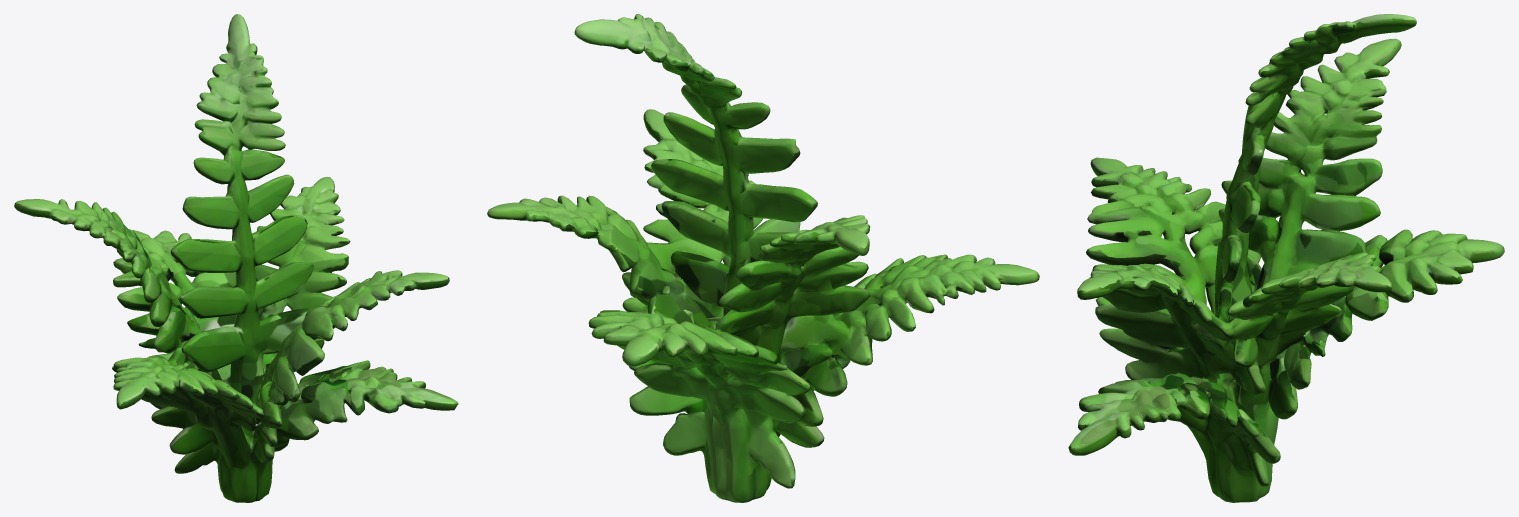
File: bush.glb
3 views of the same model, side by side, from view 1: azimuth 30°, elevation 25°; view 2: azimuth 150°, elevation 25°; view 3: azimuth 270°, elevation 25° (orthographic). The views are drawn at different scales.
Parts seen in each view (by area): view 1: Fern; view 2: Fern; view 3: Fern.
Boxes of the visible parts, box(x1,y1,x2,y2) form: Fern: box(14, 14, 458, 502); Fern: box(487, 14, 1039, 502); Fern: box(1068, 14, 1504, 502).
Bounding box in the file's own units: 0.3341 × 0.4 × 0.3068.
1 material, 1 textured.
